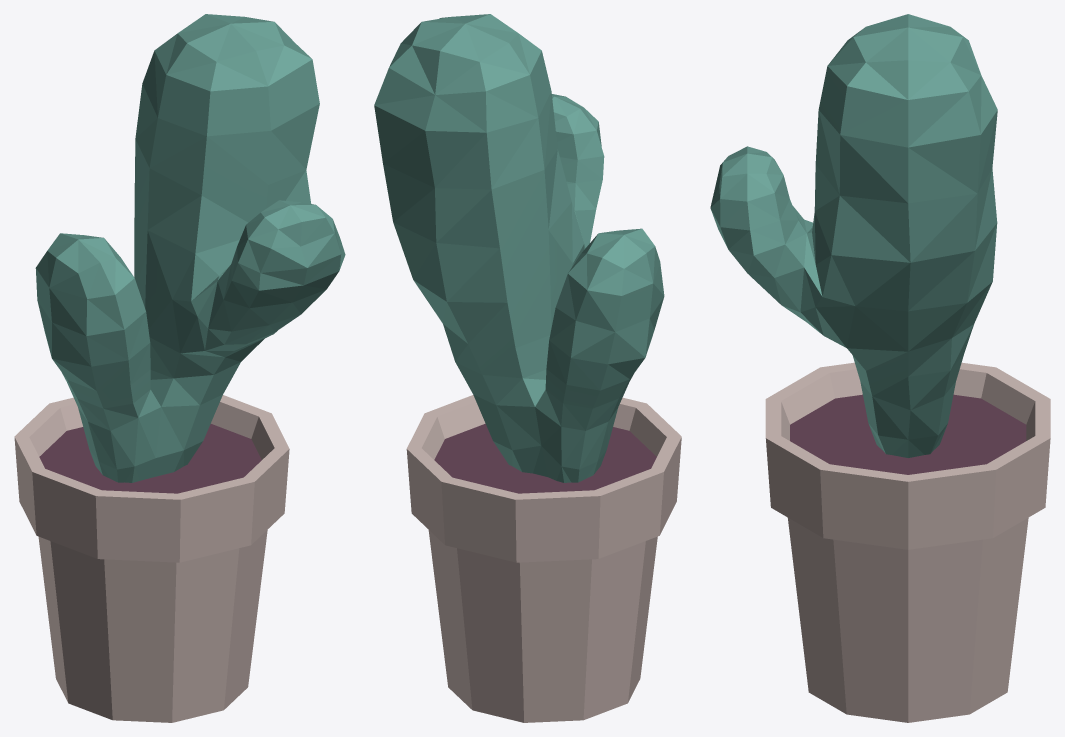
File: f-cactus.fbx
3 views of the same model, side by side, from view 1: azimuth 30°, elevation 25°; view 2: azimuth 150°, elevation 25°; view 3: azimuth 270°, elevation 25° (orthographic). The views are drawn at different scales.
Visible parts, largest first — view 1: Cactus; view 2: Cactus; view 3: Cactus.
Part boxes in pixels (left/top/right/bottom): Cactus: left=14, top=14, right=345, bottom=722; Cactus: left=374, top=14, right=681, bottom=722; Cactus: left=710, top=14, right=1050, bottom=722.
Bounding box in the file's own units: 66.68 × 152 × 67.45.
